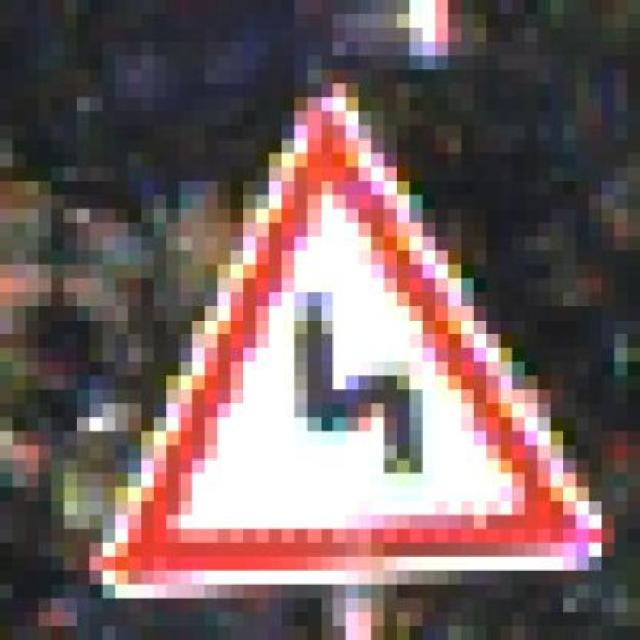Left Zig Zag Traffic: (50, 70, 628, 598)
